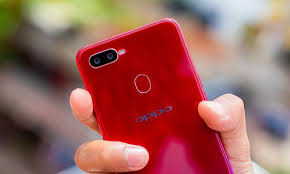oppo: (62, 18, 234, 174)
